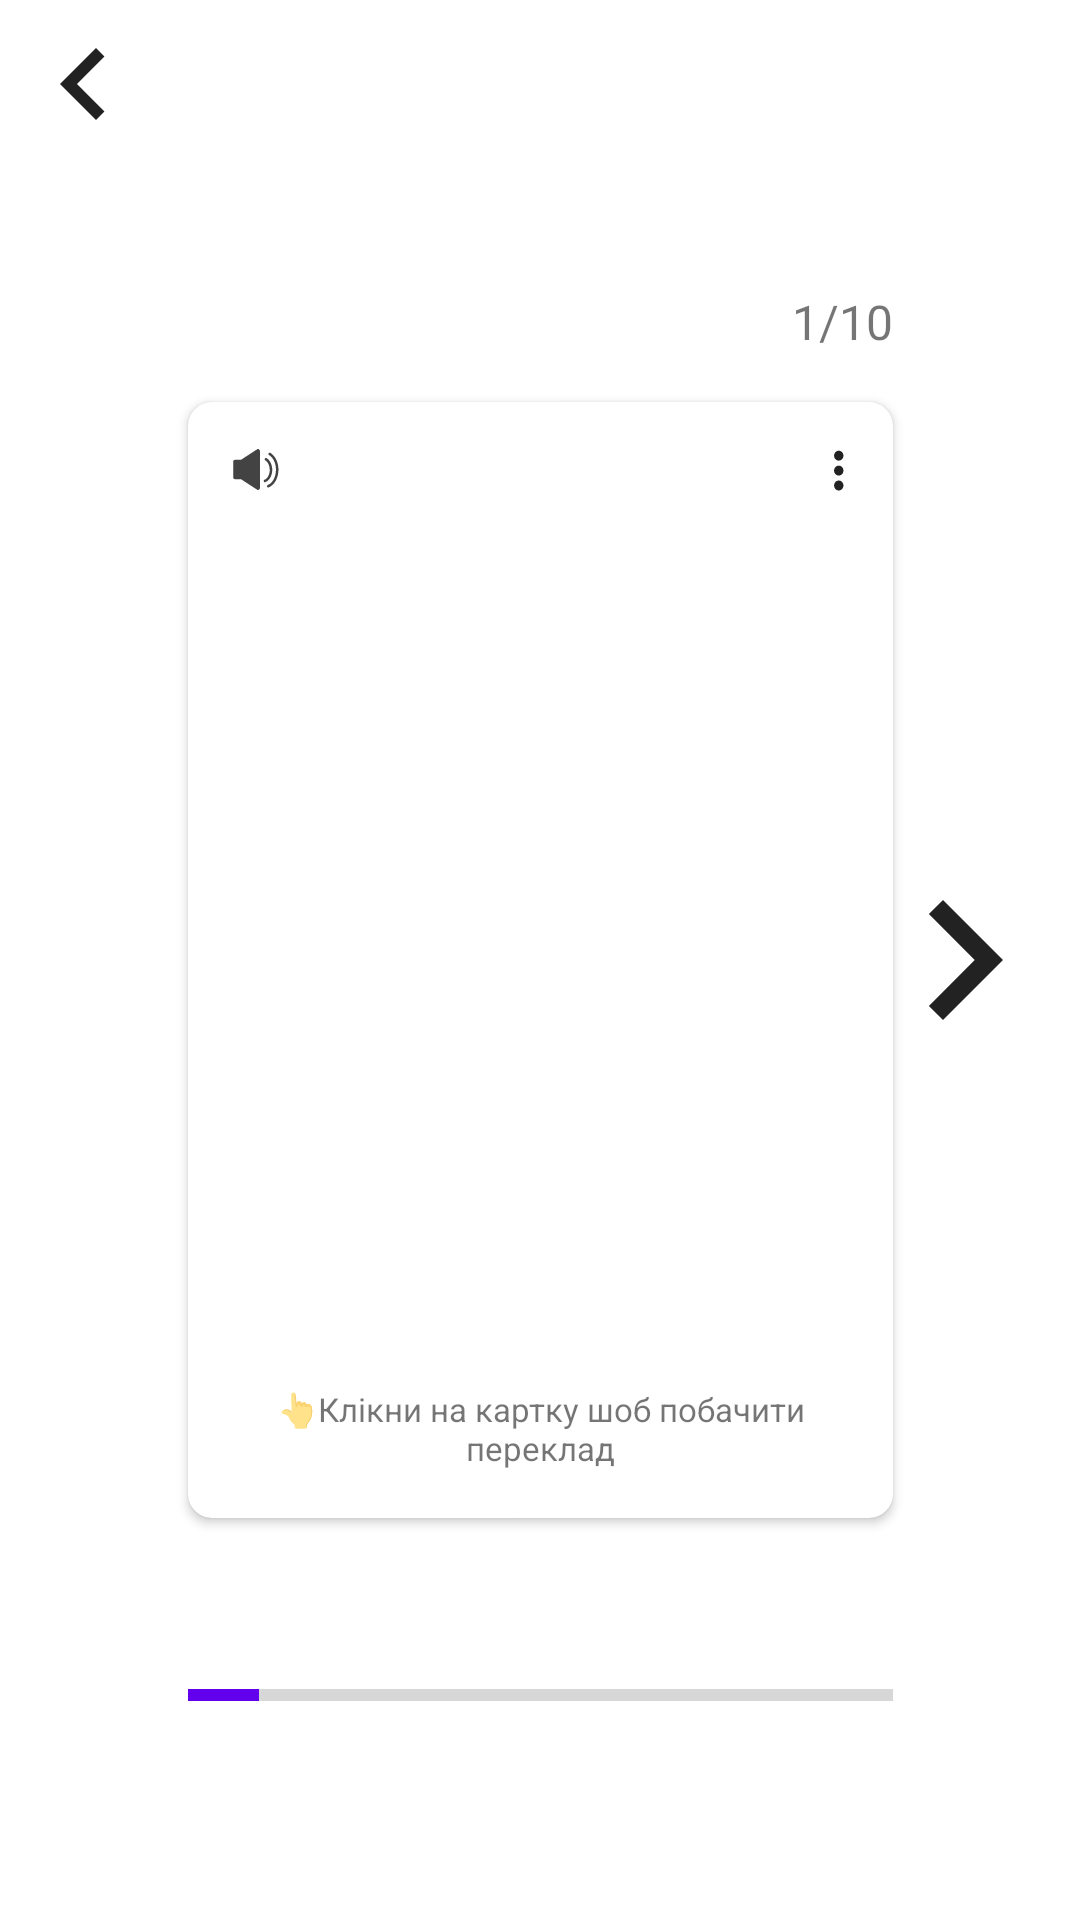

Screen size 1080x1920. Icon name, then its center in pixels as (x,y):
voice: (256,469)
